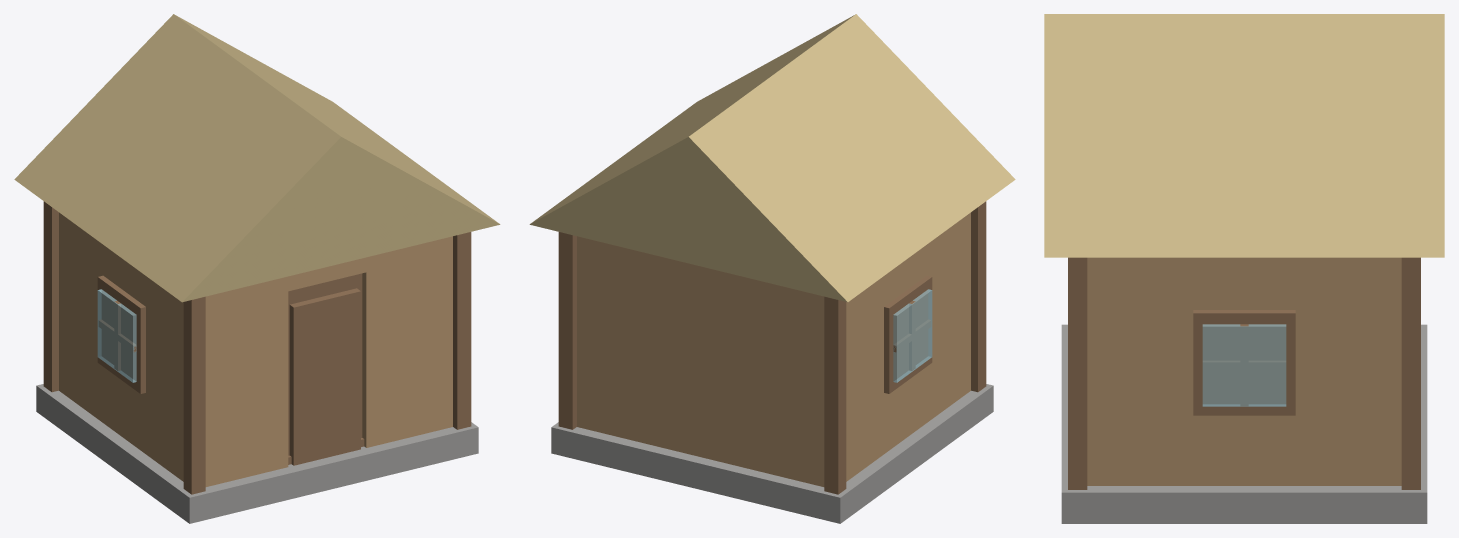
File: BLD-hut-01.glb
3 views of the same model, side by side, from view 1: azimuth 30°, elevation 25°; view 2: azimuth 150°, elevation 25°; view 3: azimuth 270°, elevation 25° (orthographic). The views are drawn at different scales.
Visible parts, largest first — view 1: BLD-hut-01; view 2: BLD-hut-01; view 3: BLD-hut-01.
Part boxes in pixels (x1=…): BLD-hut-01: x1=14, y1=14, x2=500, y2=523; BLD-hut-01: x1=529, y1=14, x2=1015, y2=523; BLD-hut-01: x1=1044, y1=14, x2=1444, y2=523.
Bounding box in the file's own units: 4.08 × 4.37 × 3.72.
